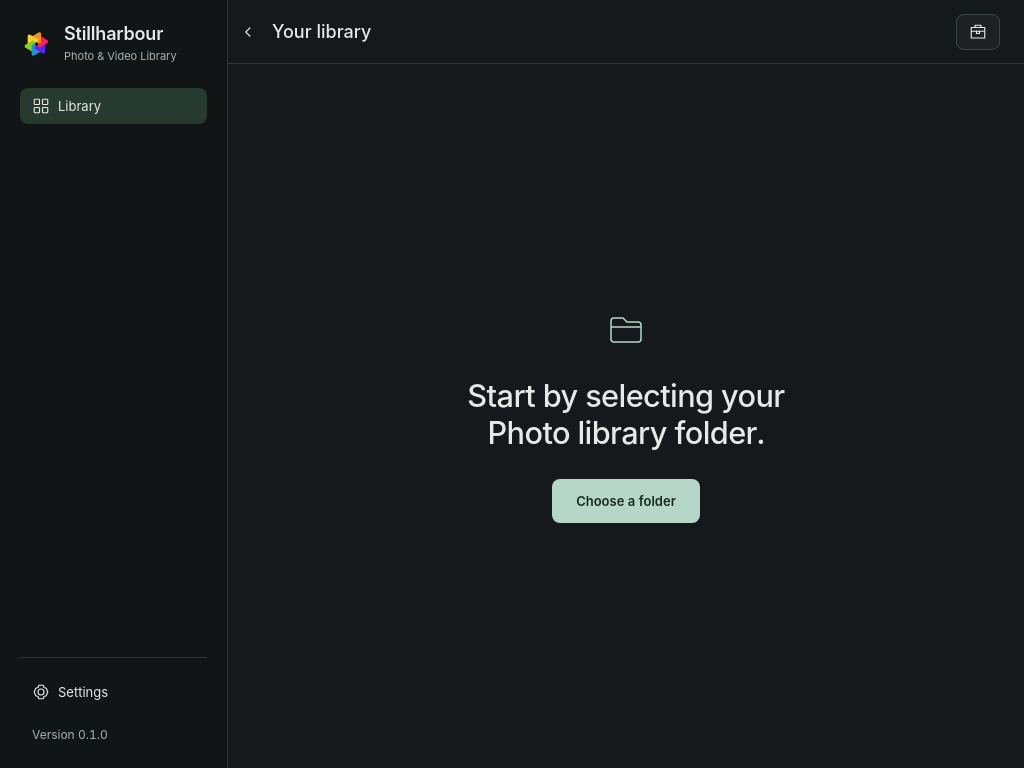
Scenario: returns to the folder chooser when the selected form is canceled
Click the button "Choose a folder": (626, 501) [552,479,700,523]
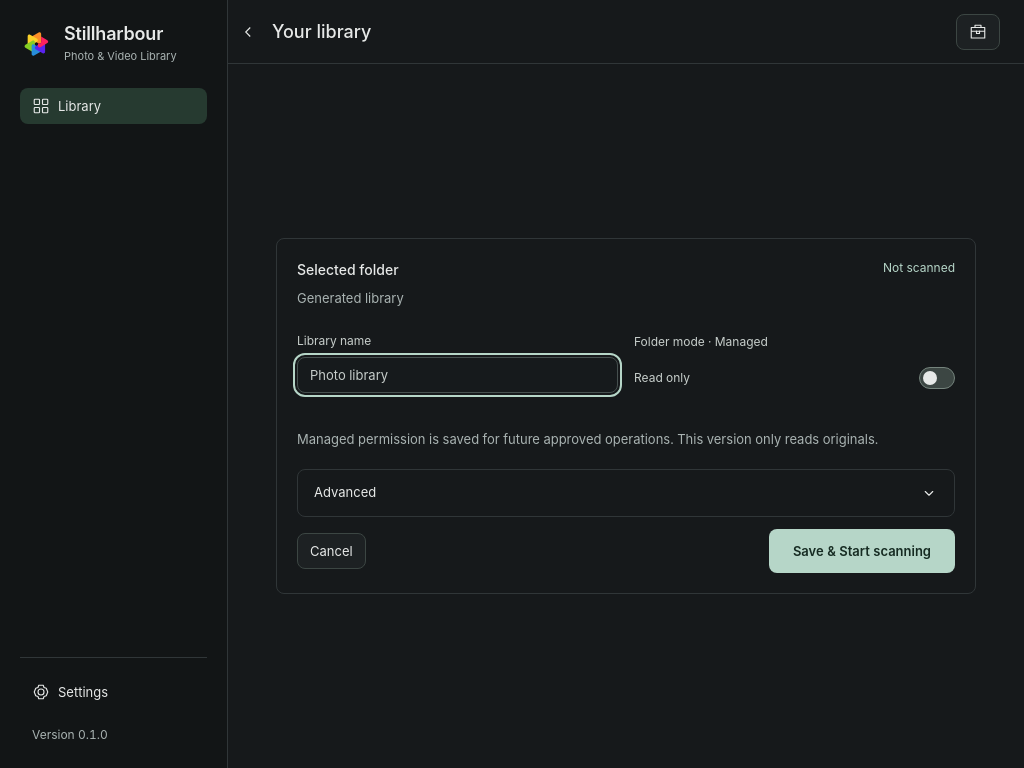
Click the button "Cancel": (331, 551) [297,533,366,569]
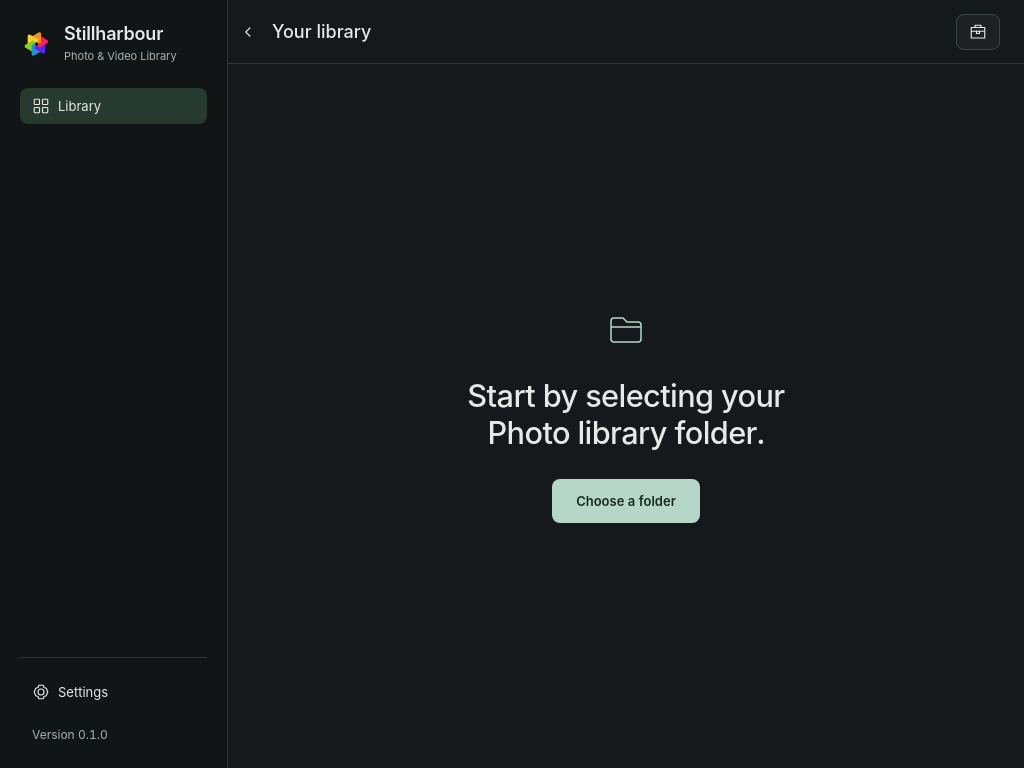
Result: the button "Choose a folder" is shown at [552,479,700,523]
Result: the heading "Selected folder" is gone
